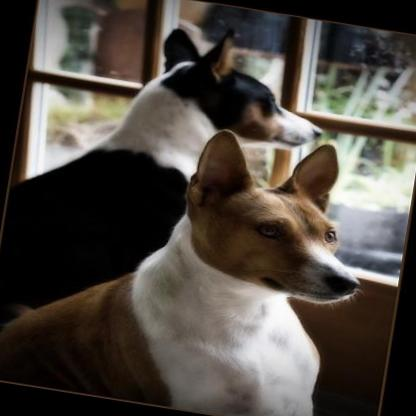basenji: (0, 93, 383, 416), (0, 1, 337, 359)
